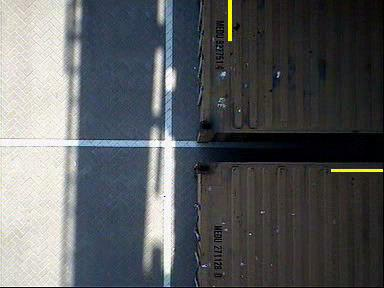groundmarker_2: (144, 125, 197, 160)
